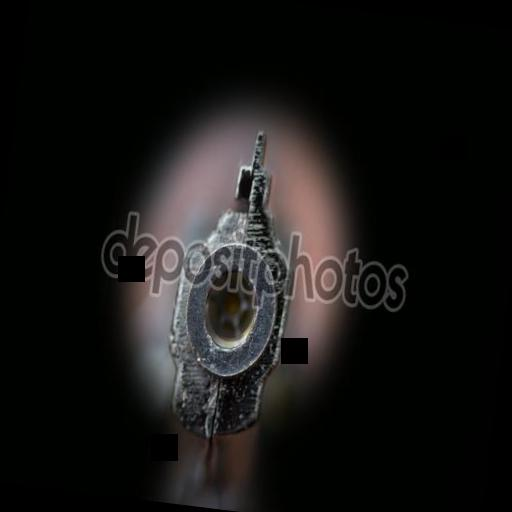Handgun: (143, 94, 315, 512)
